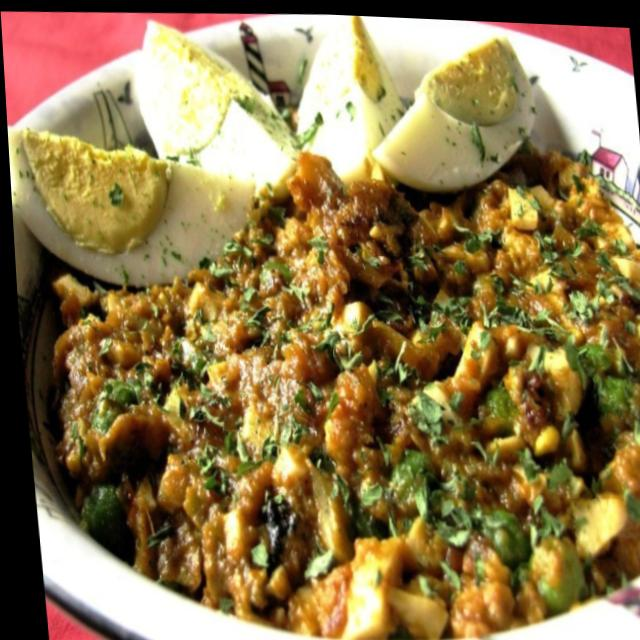EGG: (7, 15, 640, 640)
